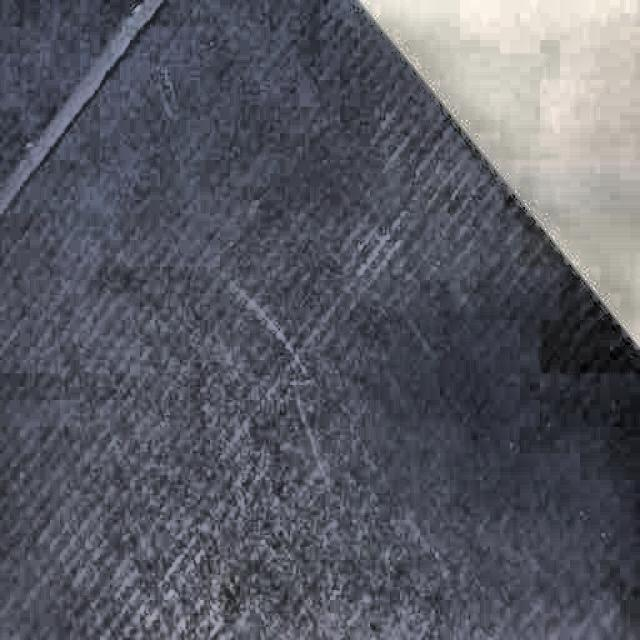cardboard: (8, 5, 640, 512)
